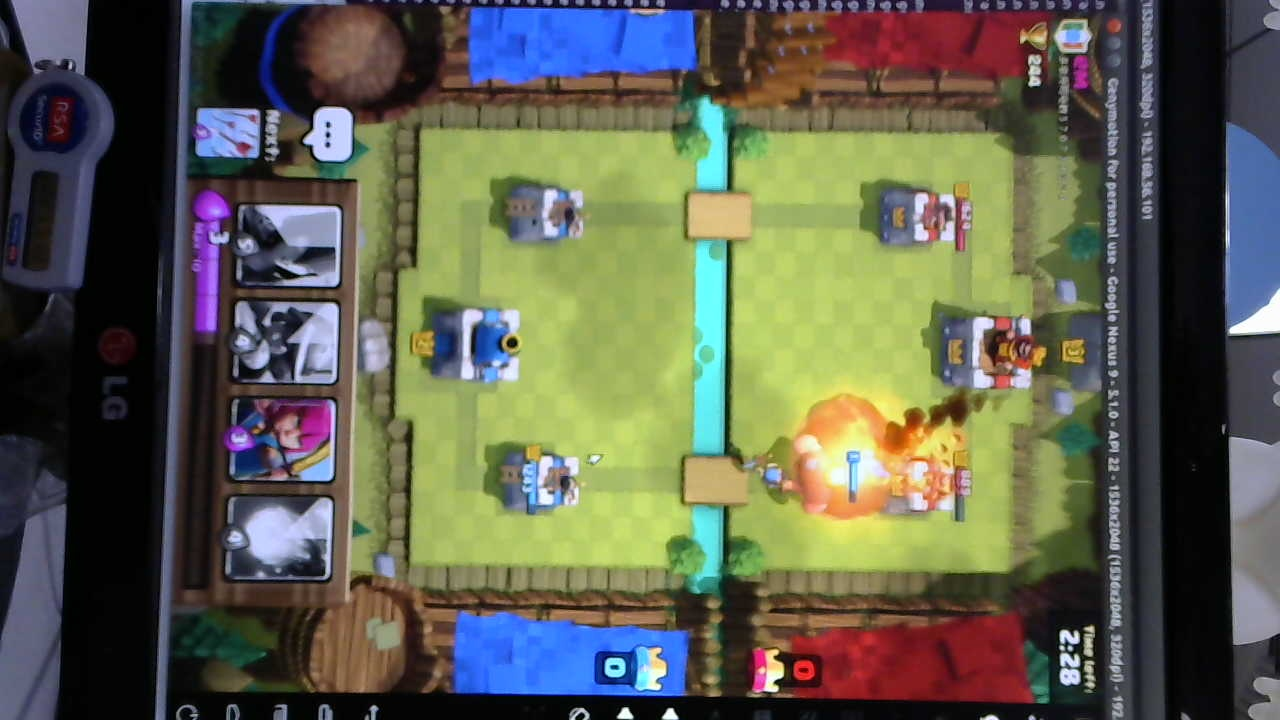fireballL: (812, 398, 891, 519)
